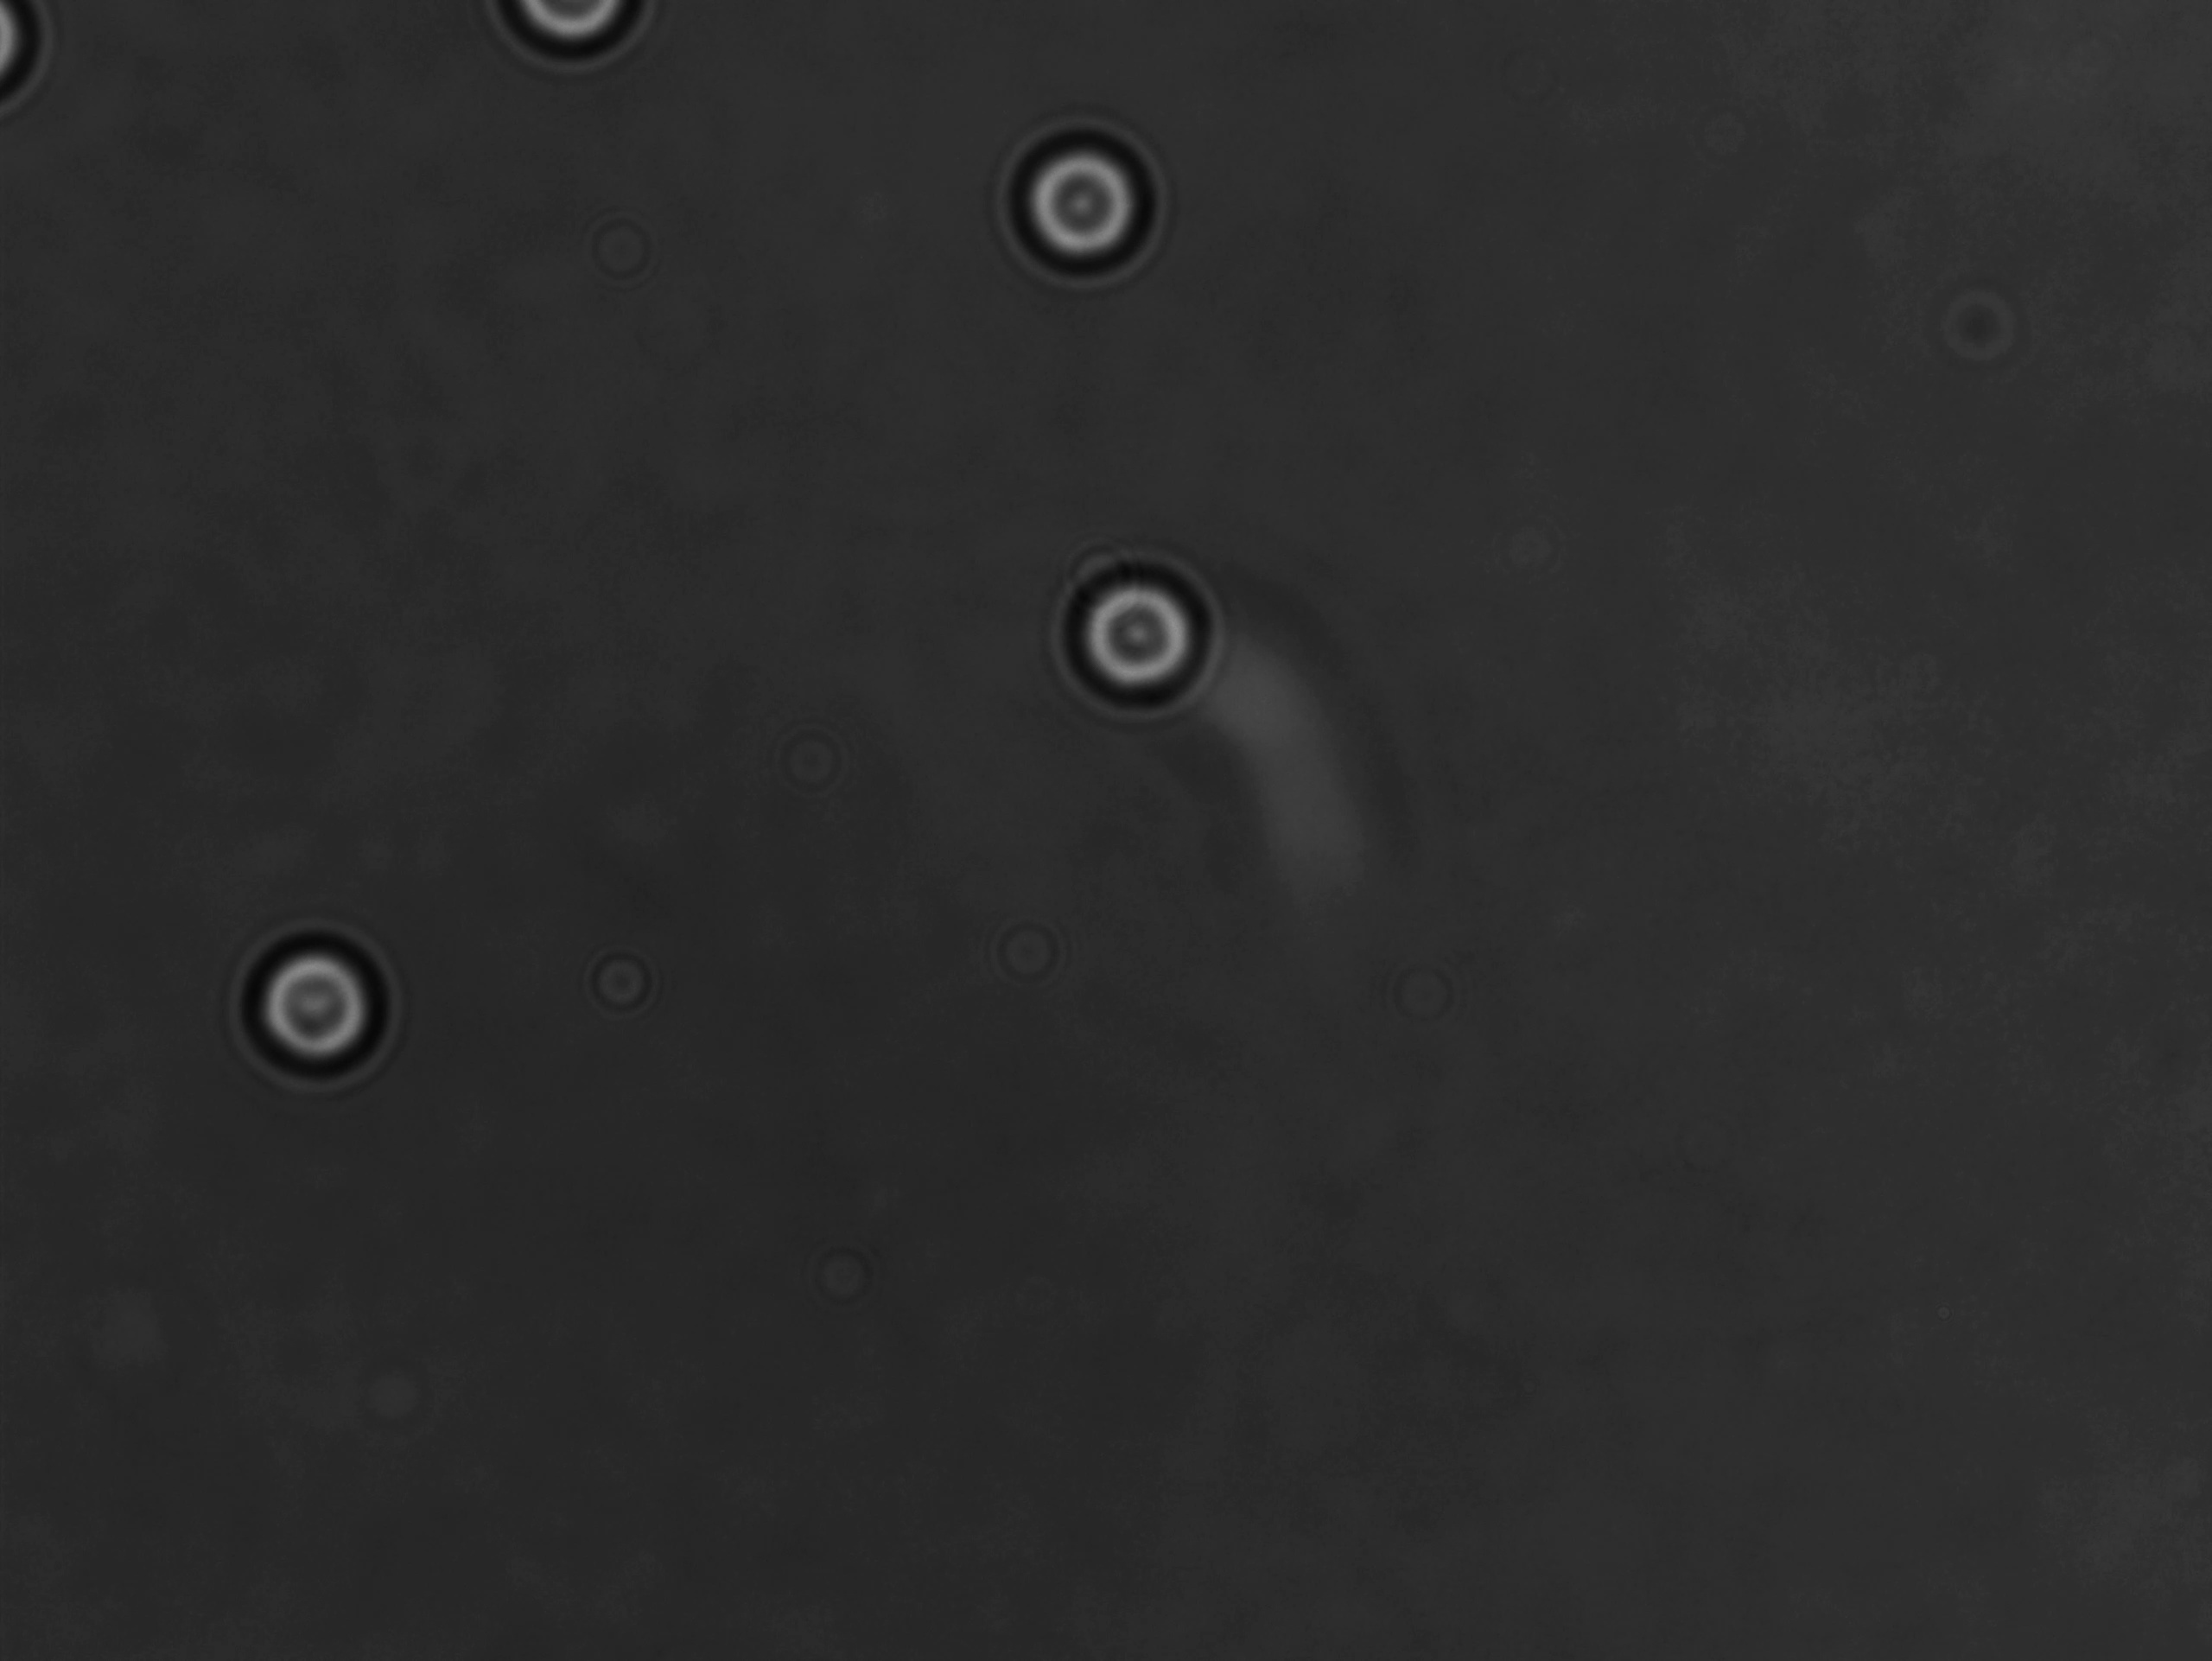depth:20: (1038, 534, 1225, 721), (994, 117, 1171, 297), (232, 919, 399, 1096)
